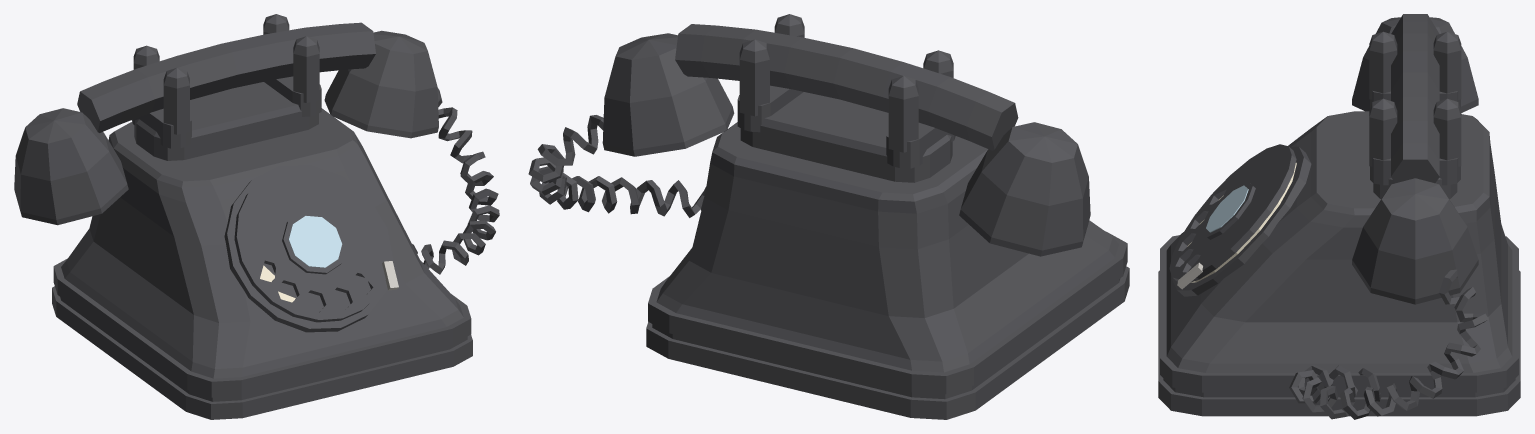
File: telefone-1986.fbx
3 views of the same model, side by side, from view 1: azimuth 30°, elevation 25°; view 2: azimuth 150°, elevation 25°; view 3: azimuth 270°, elevation 25° (orthographic). The views are drawn at different scales.
Parts seen in each view (by area): view 1: Corpo, Detalhes; view 2: Corpo, Detalhes; view 3: Corpo, Detalhes.
Boxes of the visible parts, x1,y1,x2,y2 form: Corpo: (52, 14, 472, 419); Detalhes: (14, 22, 499, 332); Corpo: (646, 14, 1129, 419); Detalhes: (528, 24, 1090, 256); Corpo: (1158, 31, 1520, 416); Detalhes: (1169, 14, 1488, 419).
Bounding box in the file's own units: 0.3384 × 0.182 × 0.215.
Materials: 1 (1 with a texture image).
